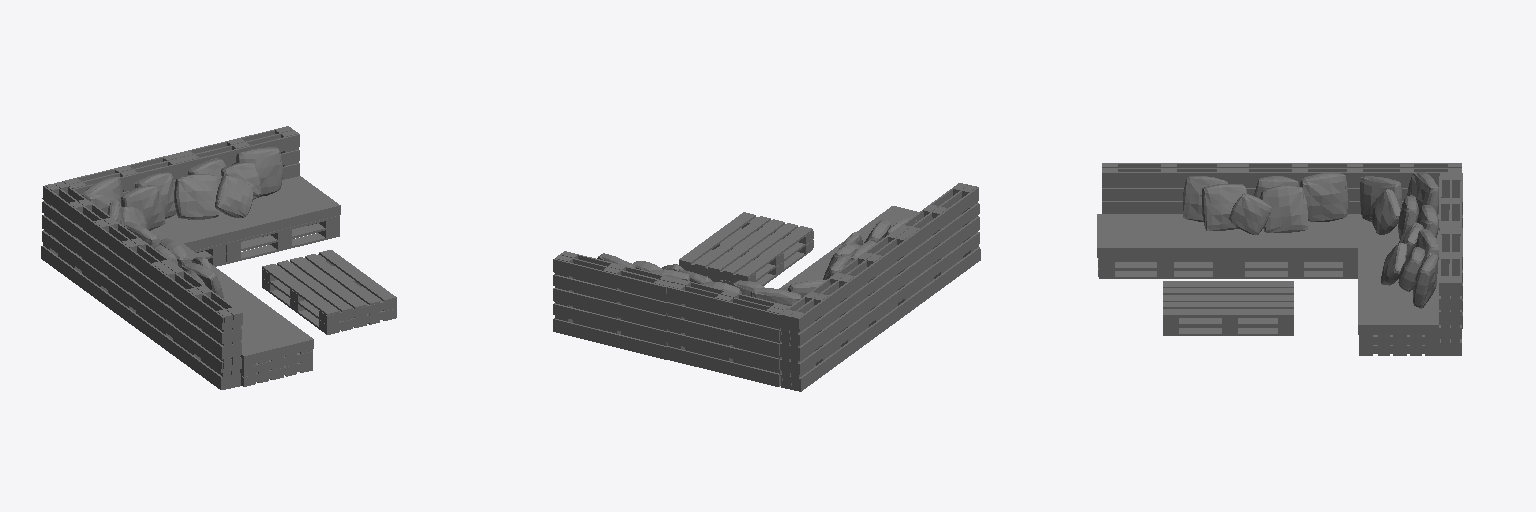
File: sofa.obj
3 views of the same model, side by side, from view 1: azimuth 30°, elevation 25°; view 2: azimuth 150°, elevation 25°; view 3: azimuth 270°, elevation 25° (orthographic).
Visible parts, largest first — view 1: polySurface74, polySurface41, pCube35, polySurface46, pCube34, pCube44, polySurface75 polySurface80, pCube45, polySurface75 polySurface77, polySurface75 polySurface78, polySurface76 polySurface75, polySurface75 polySurface81 (+1 smaller); view 2: polySurface74, polySurface41, pCube34, polySurface75 polySurface78; view 3: polySurface74, pCube34, polySurface41, polySurface46, pCube35, pCube37, polySurface75 polySurface84, polySurface75 polySurface85, pCube46, pCube38, polySurface75 polySurface83, pCube39 (+5 smaller).
Part boxes in pixels (left/top/right/bottom): polySurface74: left=41, top=126, right=299, bottom=389; polySurface41: left=262, top=250, right=396, bottom=334; pCube35: left=151, top=176, right=340, bottom=250; polySurface46: left=194, top=215, right=339, bottom=386; pCube34: left=180, top=244, right=313, bottom=365; pCube44: left=174, top=174, right=218, bottom=219; polySurface75 polySurface80: left=236, top=147, right=282, bottom=196; pCube45: left=215, top=175, right=252, bottom=217; polySurface75 polySurface77: left=121, top=185, right=165, bottom=230; polySurface75 polySurface78: left=82, top=177, right=122, bottom=212; polySurface76 polySurface75: left=135, top=172, right=176, bottom=218; polySurface75 polySurface81: left=221, top=161, right=260, bottom=199; polySurface74: left=553, top=183, right=980, bottom=391; polySurface41: left=679, top=212, right=813, bottom=285; pCube34: left=779, top=206, right=918, bottom=288; polySurface75 polySurface78: left=751, top=288, right=801, bottom=305; polySurface74: left=1102, top=163, right=1462, bottom=355; pCube34: left=1097, top=214, right=1357, bottom=257; polySurface41: left=1163, top=281, right=1293, bottom=335; polySurface46: left=1098, top=258, right=1439, bottom=355; pCube35: left=1358, top=214, right=1438, bottom=334; pCube37: left=1300, top=173, right=1348, bottom=221; polySurface75 polySurface84: left=1260, top=185, right=1308, bottom=232; polySurface75 polySurface85: left=1202, top=184, right=1247, bottom=230; pCube46: left=1229, top=193, right=1271, bottom=234; pCube38: left=1368, top=189, right=1400, bottom=234; polySurface75 polySurface83: left=1183, top=176, right=1227, bottom=221; pCube39: left=1360, top=176, right=1401, bottom=221.
Bounding box in the file's own units: 31.9 × 9.79 × 40.77.